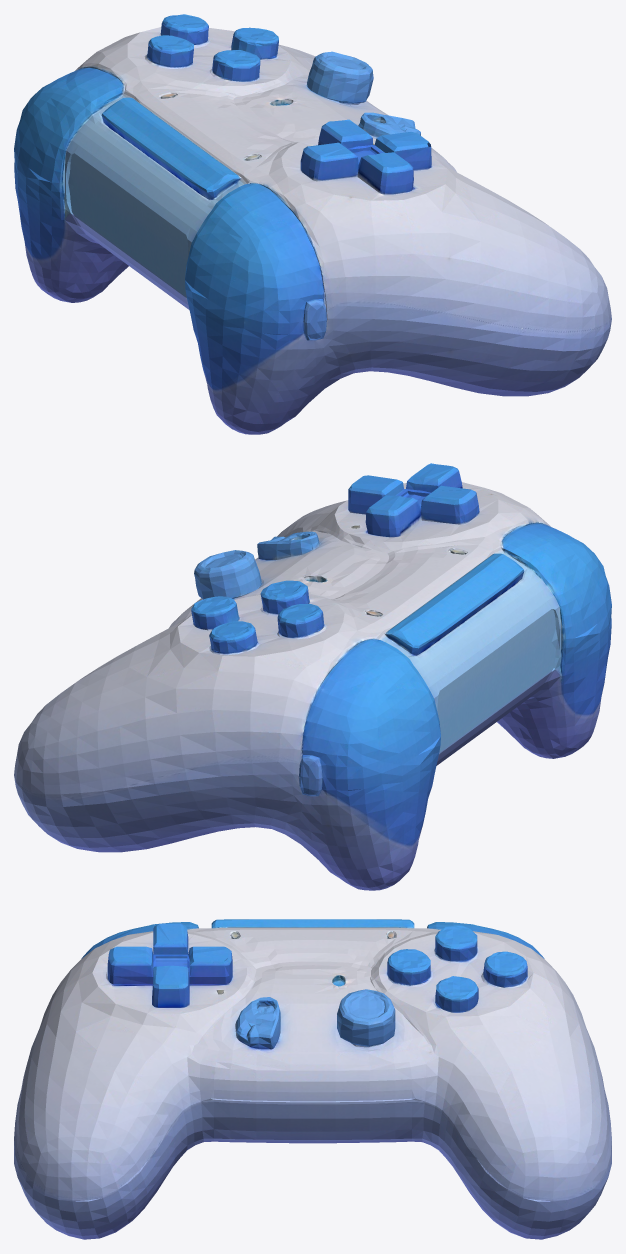
File: gamecontroller.glb
3 views of the same model, one above another, from view 1: azimuth 30°, elevation 25°; view 2: azimuth 150°, elevation 25°; view 3: azimuth 270°, elevation 25° (orthographic). The views are drawn at different scales.
Parts seen in each view (by area): view 1: tripo_node_f5ea8c6d-b36a-47d1-9cc7-6c4449fa0660; view 2: tripo_node_f5ea8c6d-b36a-47d1-9cc7-6c4449fa0660; view 3: tripo_node_f5ea8c6d-b36a-47d1-9cc7-6c4449fa0660.
Boxes of the visible parts, box(x1,y1,x2,y2) form: tripo_node_f5ea8c6d-b36a-47d1-9cc7-6c4449fa0660: box(14, 14, 611, 434); tripo_node_f5ea8c6d-b36a-47d1-9cc7-6c4449fa0660: box(14, 463, 611, 890); tripo_node_f5ea8c6d-b36a-47d1-9cc7-6c4449fa0660: box(14, 919, 611, 1239).
Bounding box in the file's own units: 0.6595 × 0.4286 × 0.9999.
Materials: 1 (1 with a texture image).
